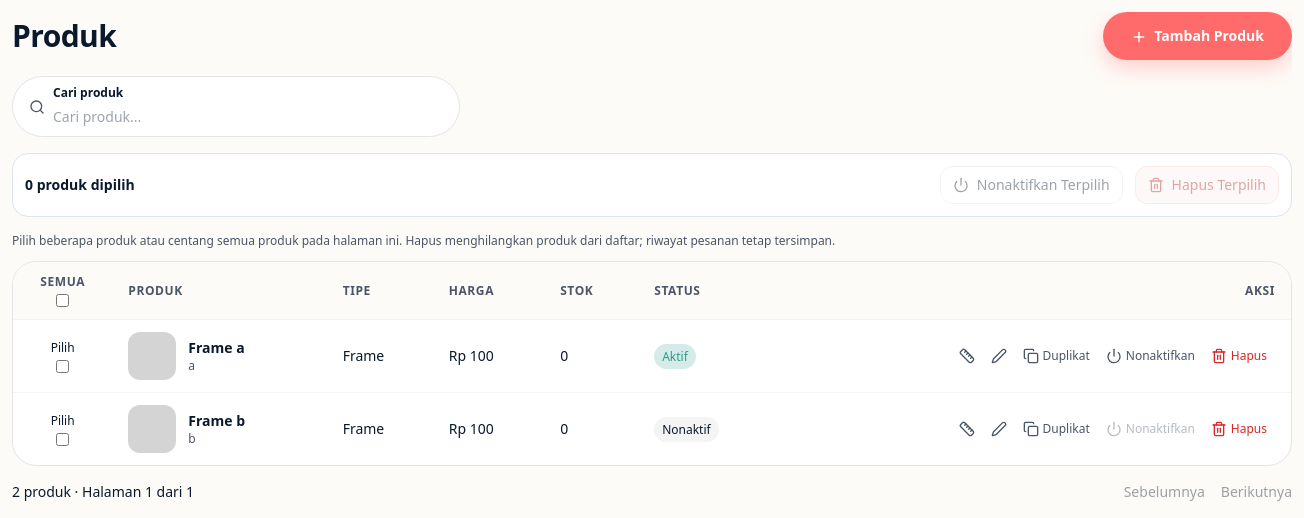
Test: bulk deletion removes selected rows after confirmation
Click the checkbox labelled "Semua" at (63, 300), box [56, 294, 69, 307]
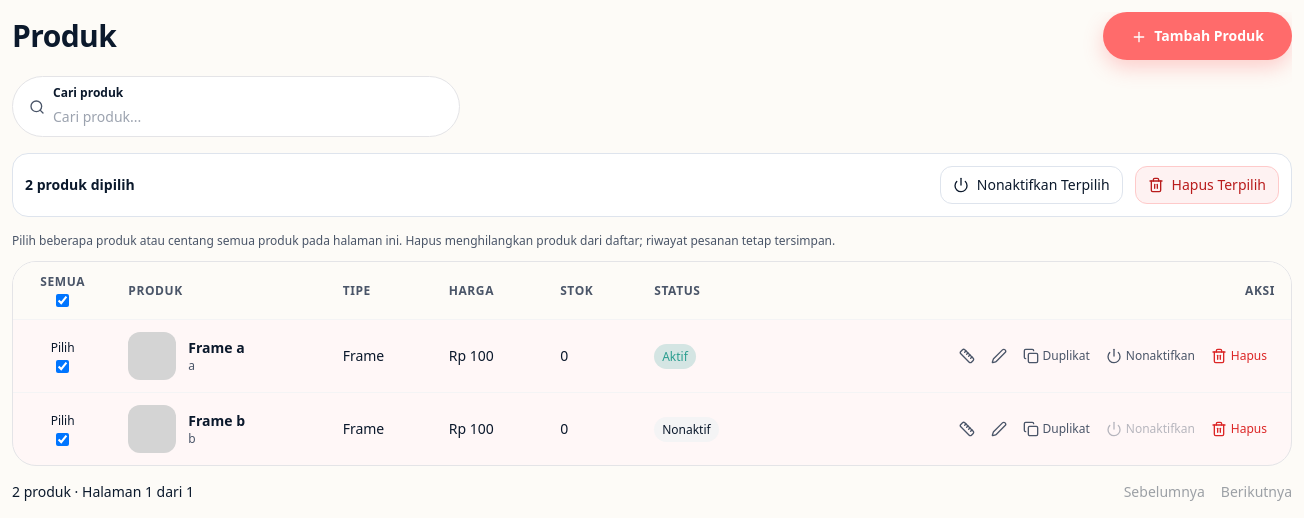
Click the button with test id "bulk-delete-products" at (1207, 185), box [1135, 166, 1279, 204]
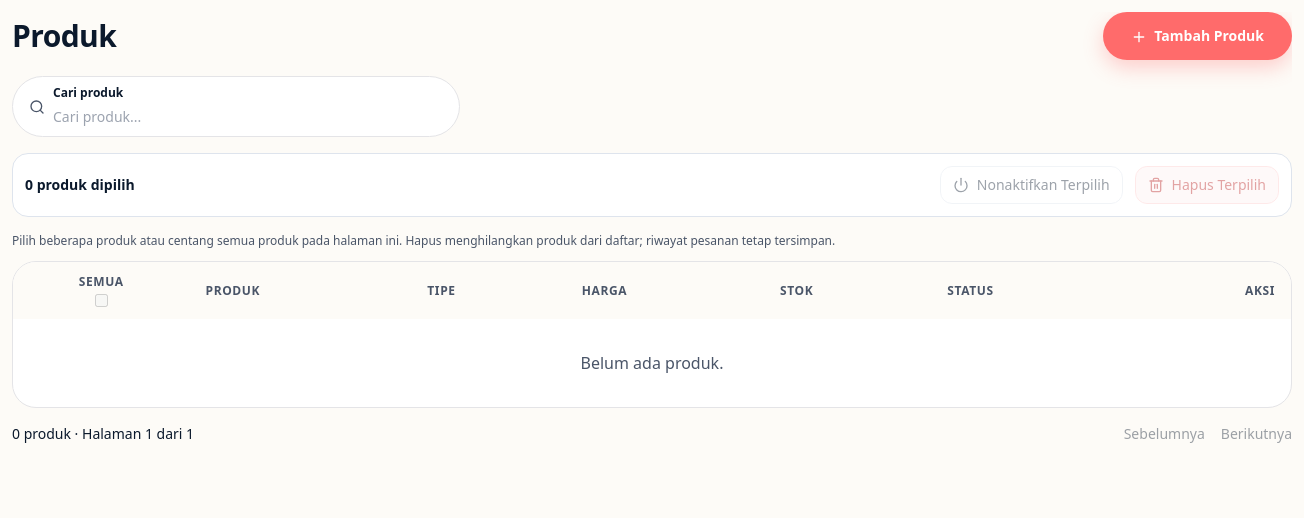
Now the text "Belum ada produk." is shown, box [580, 352, 723, 374]
